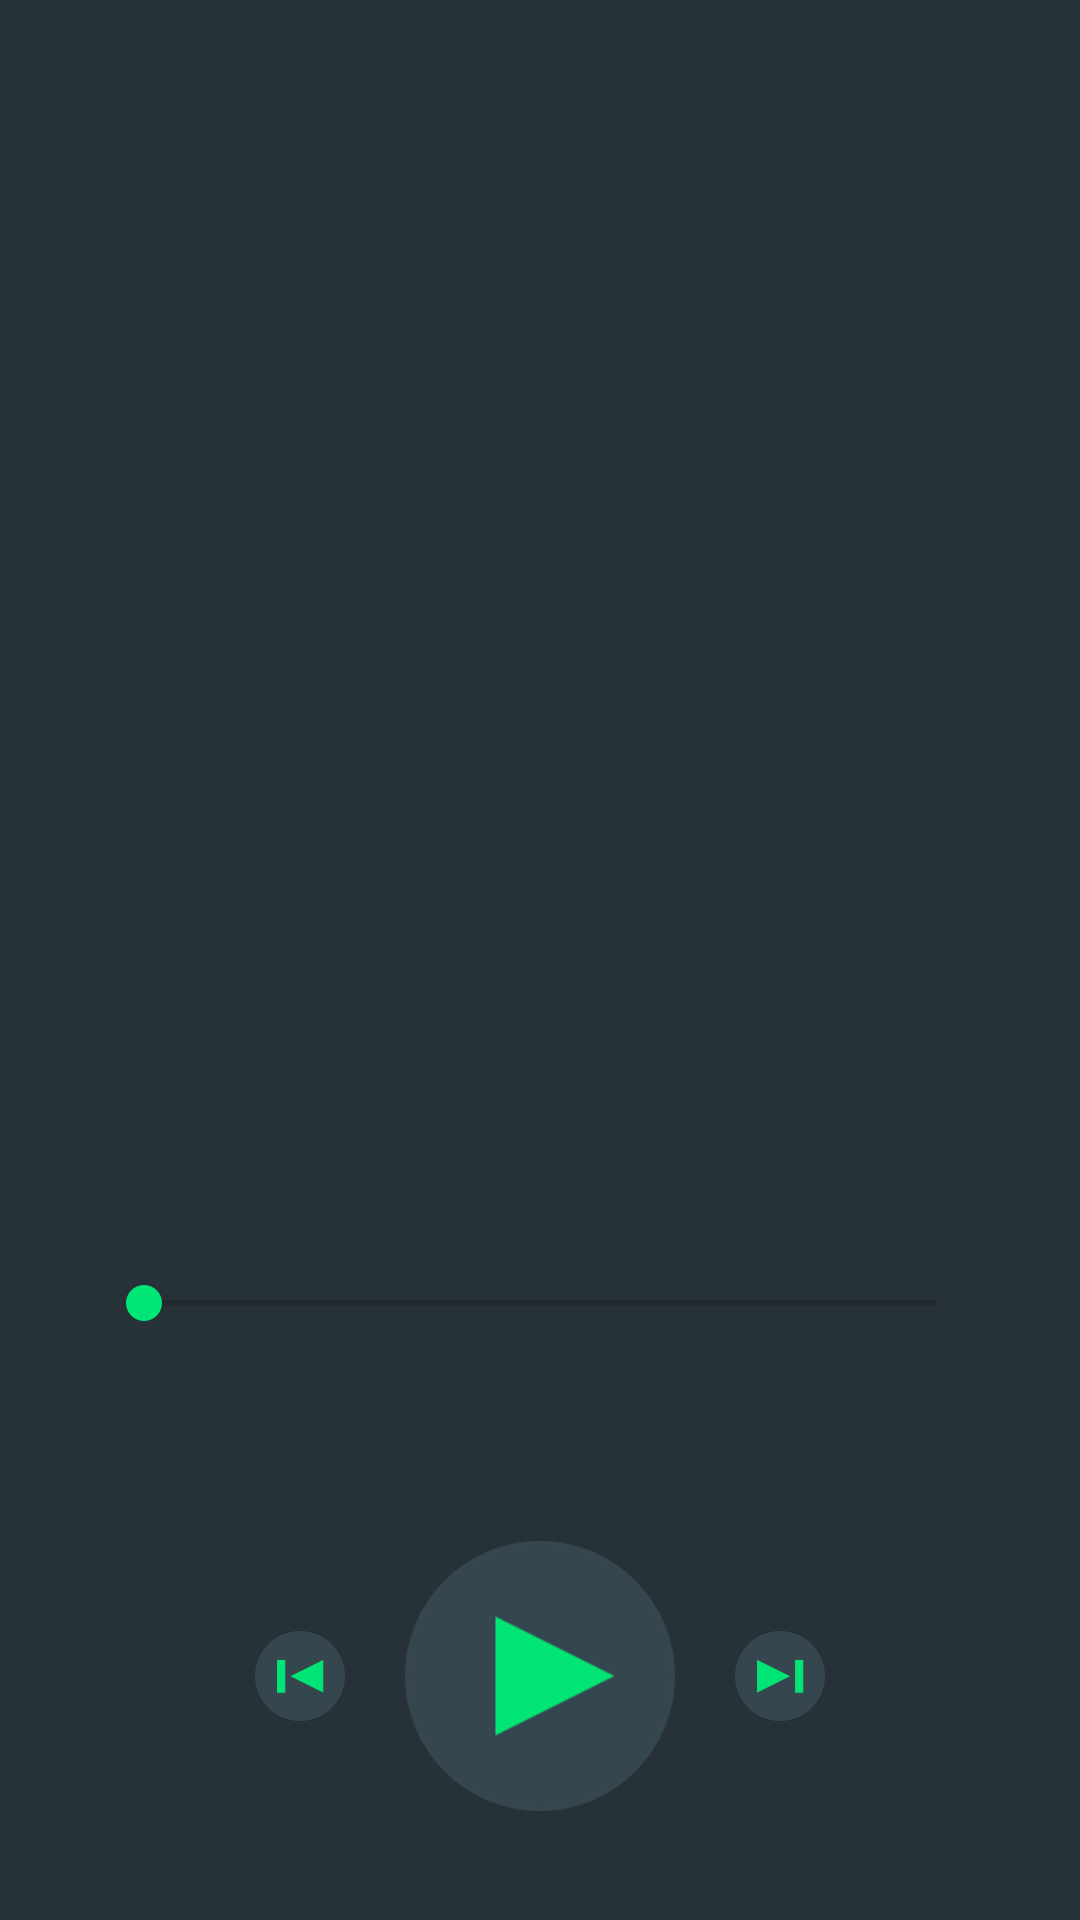

Locate icon controls on the screen. Image size 1080x1920, boxes as (x1, y1, x2, y2).
next: (735, 1631, 825, 1721)
play: (405, 1541, 675, 1811)
previous: (255, 1631, 345, 1721)
